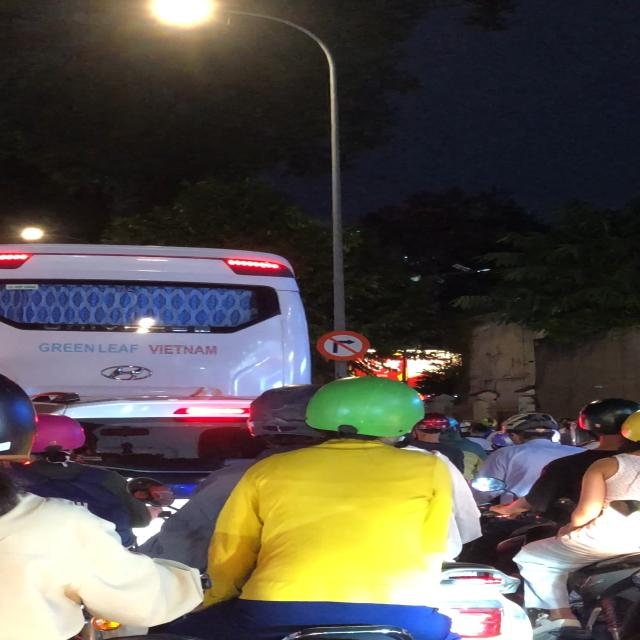Bien bao cam re phai: (312, 330, 374, 364)
